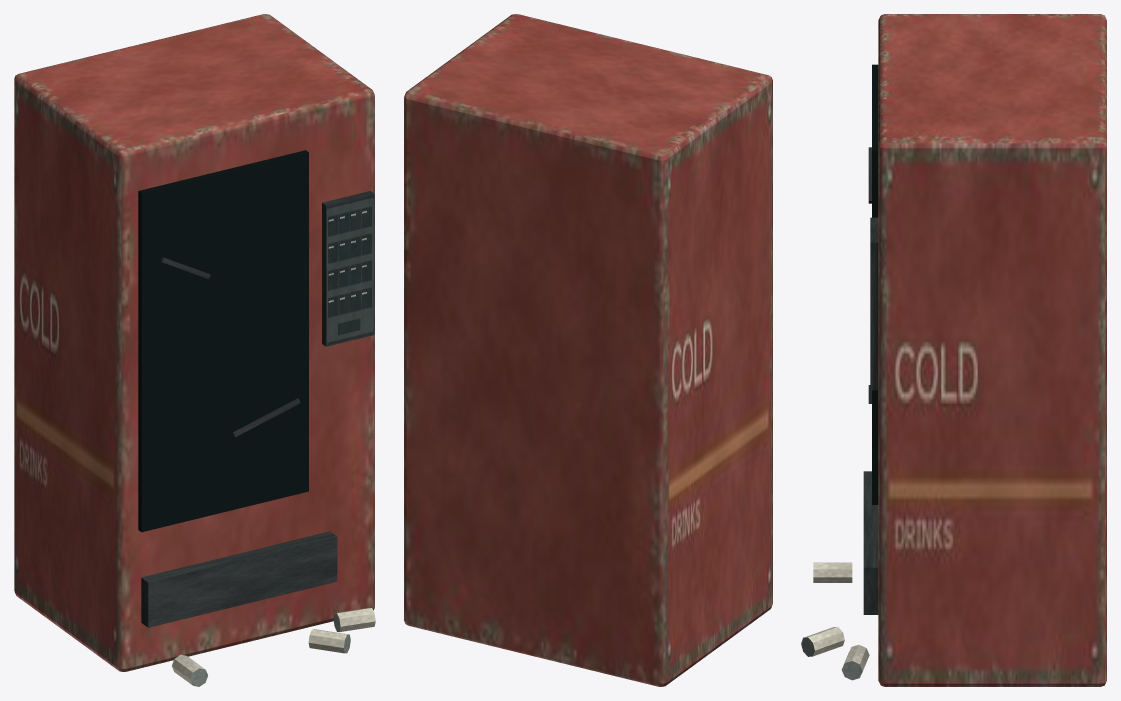
File: vending_machine.glb
3 views of the same model, side by side, from view 1: azimuth 30°, elevation 25°; view 2: azimuth 150°, elevation 25°; view 3: azimuth 270°, elevation 25° (orthographic). The views are drawn at different scales.
Visible parts, largest first — view 1: VendingMachine; view 2: VendingMachine; view 3: VendingMachine.
Part boxes in pixels (x1,y1,x2,y2): VendingMachine: [14, 14, 375, 686]; VendingMachine: [404, 14, 772, 686]; VendingMachine: [801, 14, 1106, 686].
Bounding box in the file's own units: 0.95 × 1.85 × 0.9372.
Materials: 2 (1 with a texture image).
